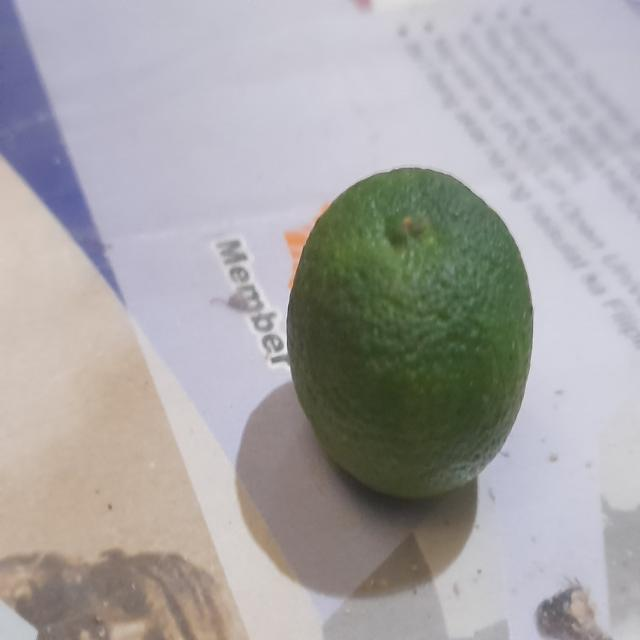heathy: (285, 160, 534, 503)
